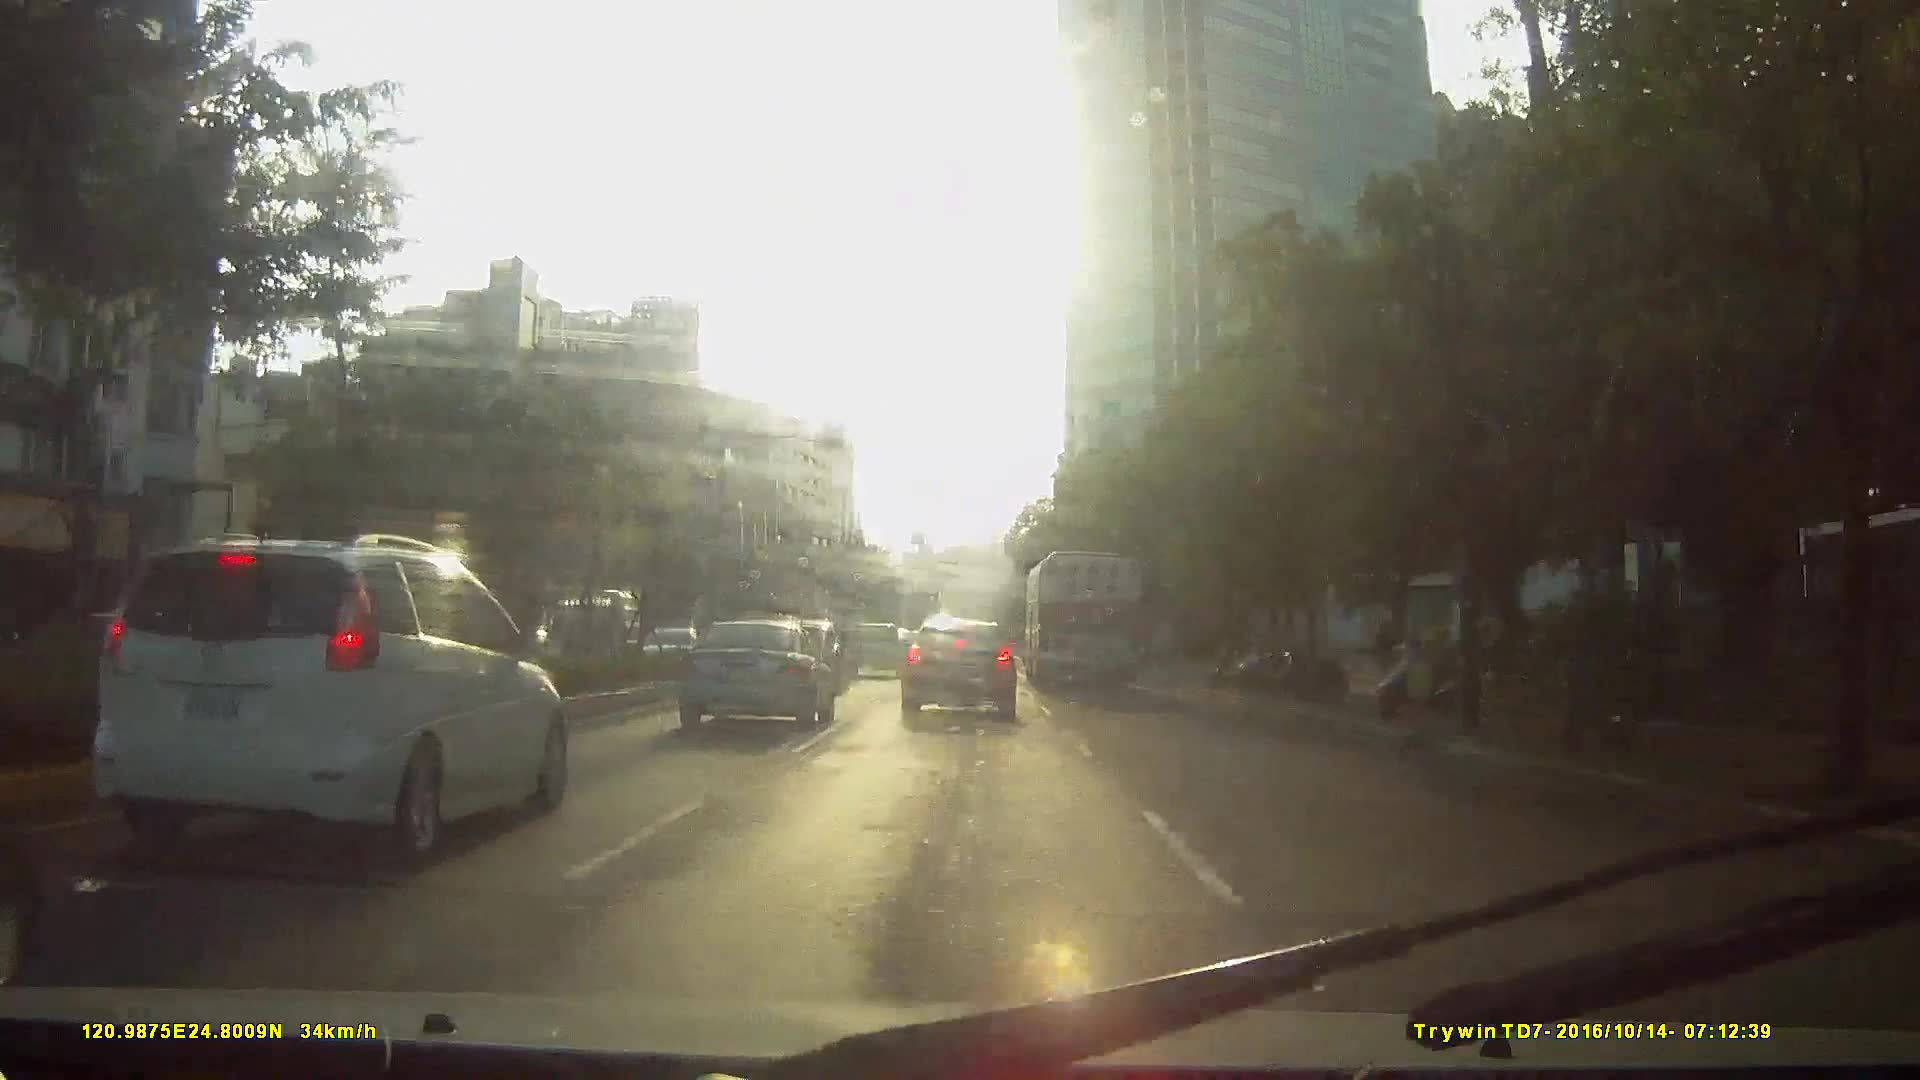vehicle: (74, 520, 575, 870), (251, 556, 684, 868), (666, 615, 832, 733), (1021, 541, 1145, 692), (895, 617, 1019, 719), (533, 585, 632, 670), (847, 620, 903, 680)
